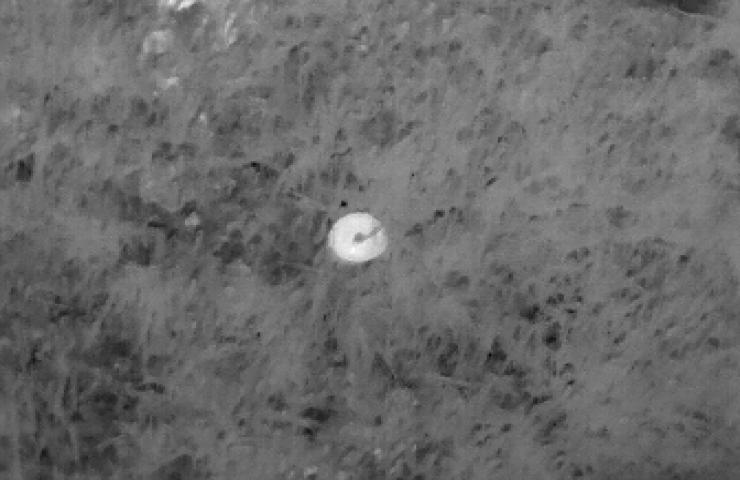landmines: (324, 210, 395, 268)
